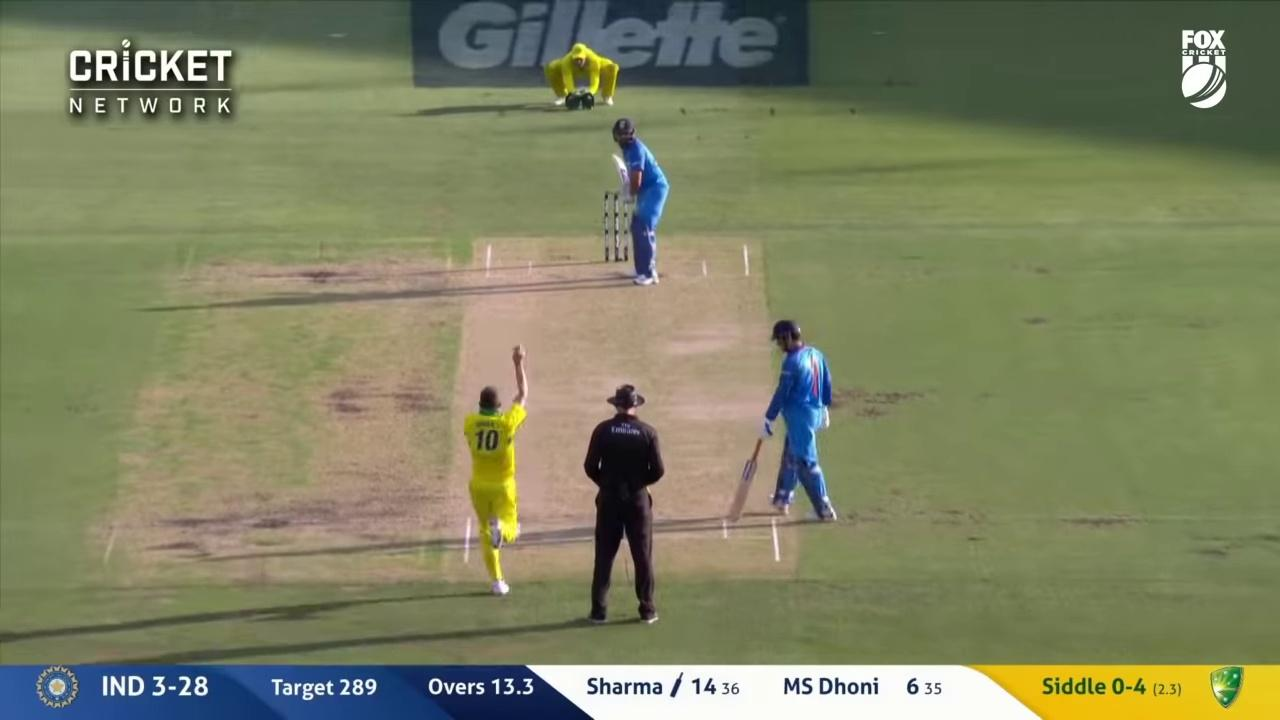batsman: (610, 118, 669, 283)
